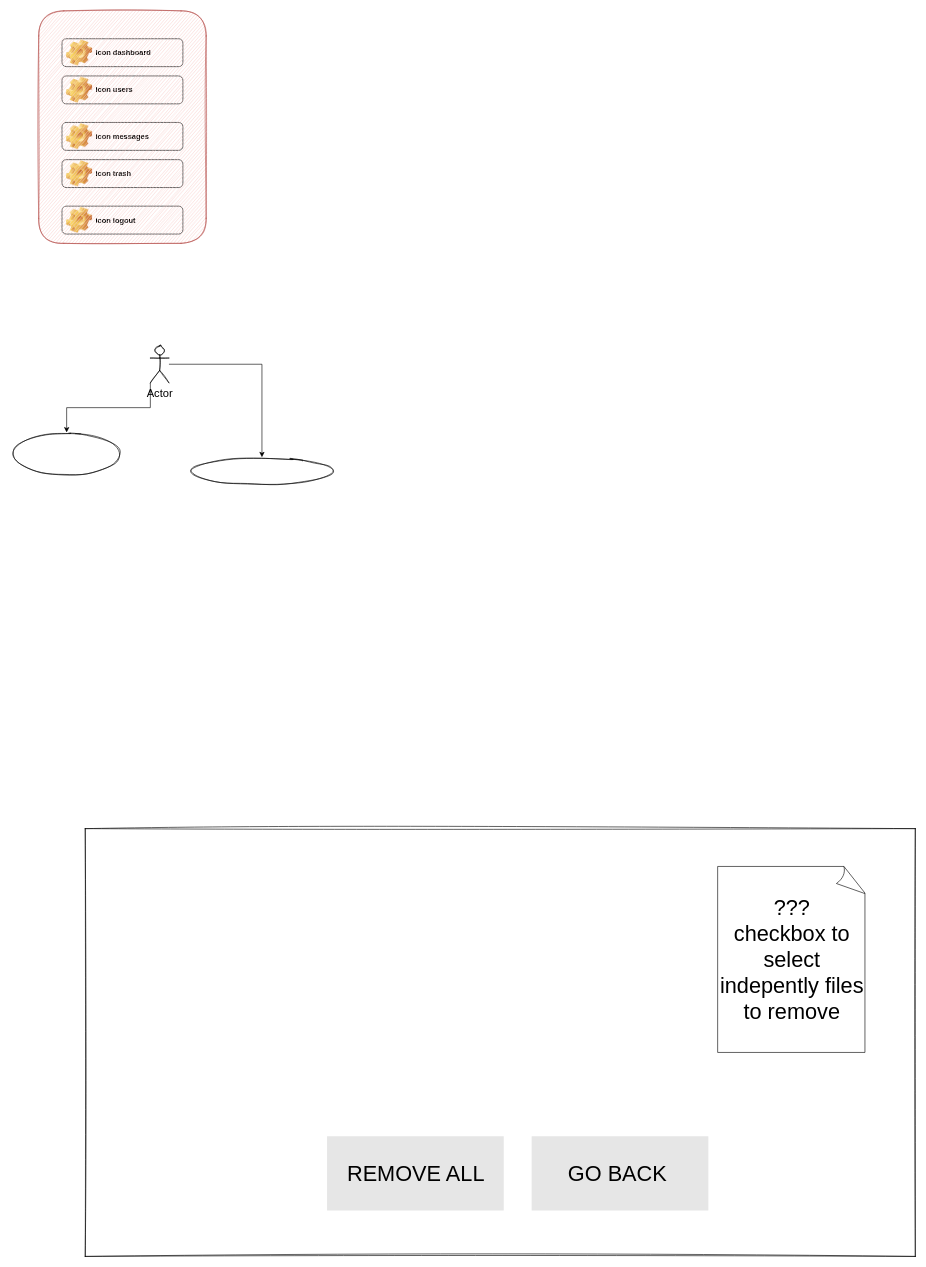
The diagram is 926 pixels wide and 1267 high, and some of its shapes have lost their labels. Each missing label, with the box of its shape:
LOG OUT: (187, 457, 336, 485)
NAV BAR: (38, 10, 206, 243)
TRASH MODAL: (85, 828, 915, 1256)
TRASH TEMPORARY FILES: (10, 432, 122, 476)
